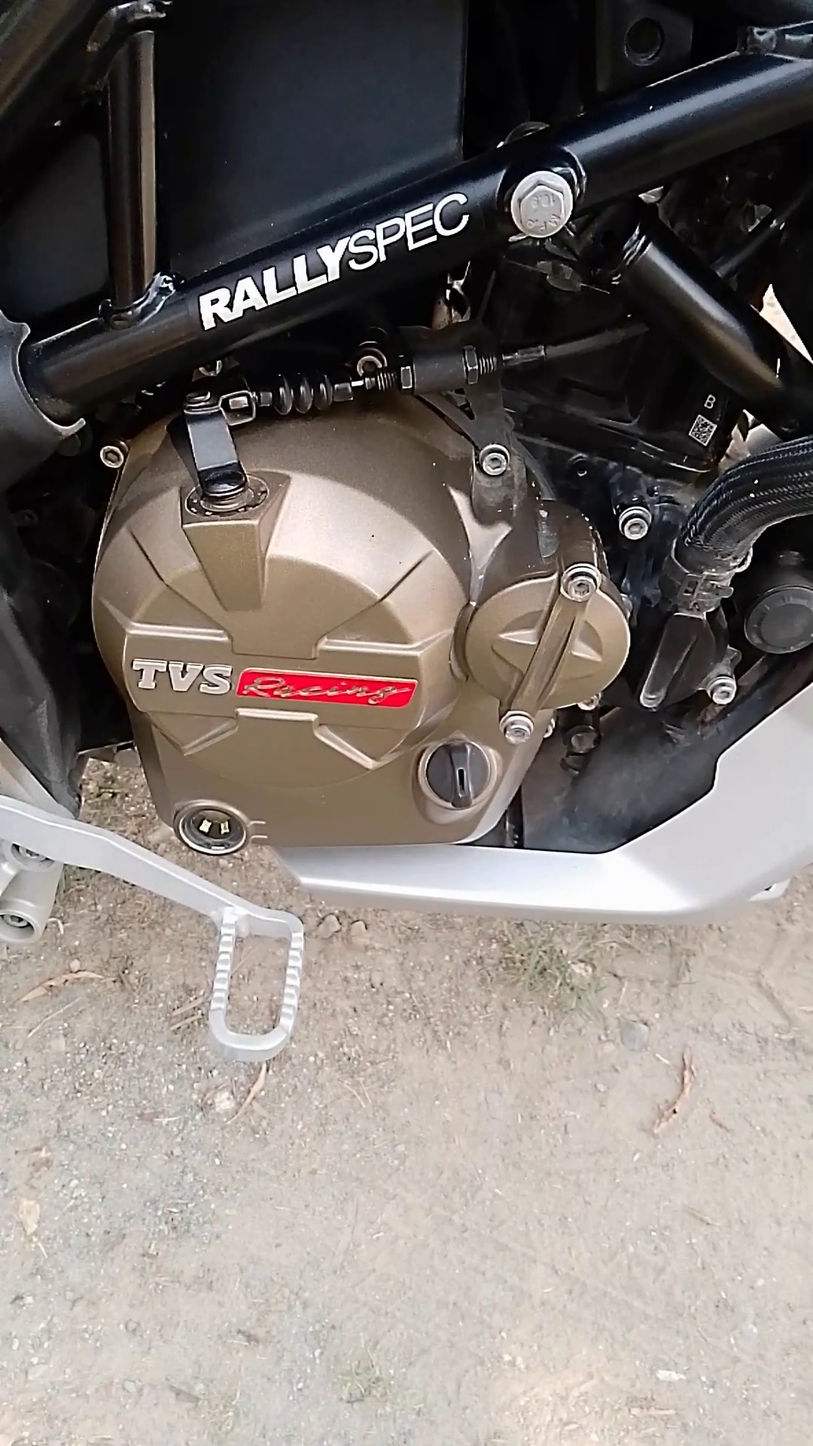engine: (64, 87, 662, 877)
oil_cap: (395, 704, 531, 832)
oil_marker: (147, 776, 275, 866)
